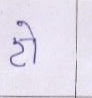e_matra: (17, 21, 40, 38)
